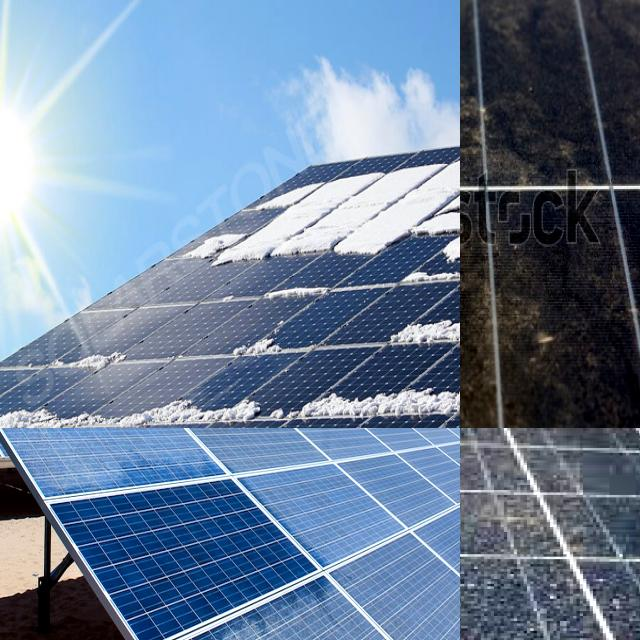dust: (460, 0, 594, 178), (460, 196, 545, 428), (492, 511, 640, 640), (572, 195, 640, 428), (460, 0, 534, 185), (460, 0, 525, 183), (460, 428, 547, 554), (460, 191, 504, 428), (587, 0, 640, 178), (460, 499, 534, 621), (519, 428, 640, 498), (28, 428, 200, 477), (460, 196, 494, 428), (256, 463, 406, 512), (460, 0, 640, 37), (460, 576, 554, 640), (153, 428, 279, 475), (344, 568, 460, 618), (460, 195, 482, 428), (308, 428, 393, 479), (422, 439, 460, 537), (242, 615, 357, 640), (460, 0, 549, 32), (0, 428, 106, 452), (385, 616, 460, 640), (0, 428, 68, 453), (0, 428, 33, 469), (82, 428, 149, 443)
panel: (263, 185, 392, 274), (294, 375, 460, 428), (392, 163, 460, 267), (0, 405, 281, 428), (218, 294, 282, 384), (36, 329, 128, 388), (248, 281, 338, 324), (383, 311, 460, 356), (396, 242, 460, 296), (197, 220, 247, 272)
